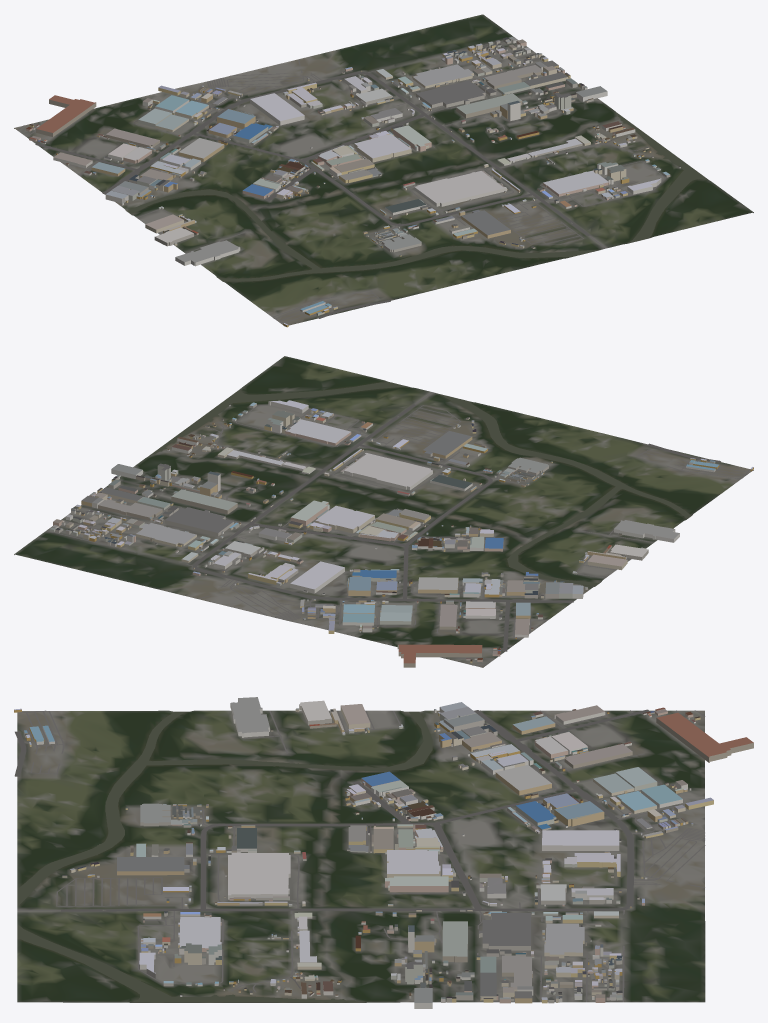
The picture shows the model from 3 angles, top to bottom: view 1: azimuth 30°, elevation 25°; view 2: azimuth 150°, elevation 25°; view 3: azimuth 270°, elevation 25°; orthographic projection. The views are drawn at different scales.
Parts seen in each view (by area): view 1: ground, buildings, roads, water; view 2: ground, buildings, roads, water; view 3: ground, buildings, roads, water.
Part boxes in pixels (<box>): ground: <box>14,14,753,326</box>; buildings: <box>26,36,680,327</box>; roads: <box>17,37,665,323</box>; water: <box>127,112,707,281</box>; ground: <box>14,356,753,667</box>; buildings: <box>49,400,753,667</box>; roads: <box>46,392,750,665</box>; water: <box>148,382,690,585</box>; ground: <box>17,710,705,1002</box>; buildings: <box>14,697,753,1008</box>; roads: <box>14,709,705,1002</box>; water: <box>17,711,432,1002</box>.
Size of the model in its own units: 1475 by 51.87 by 1507.
